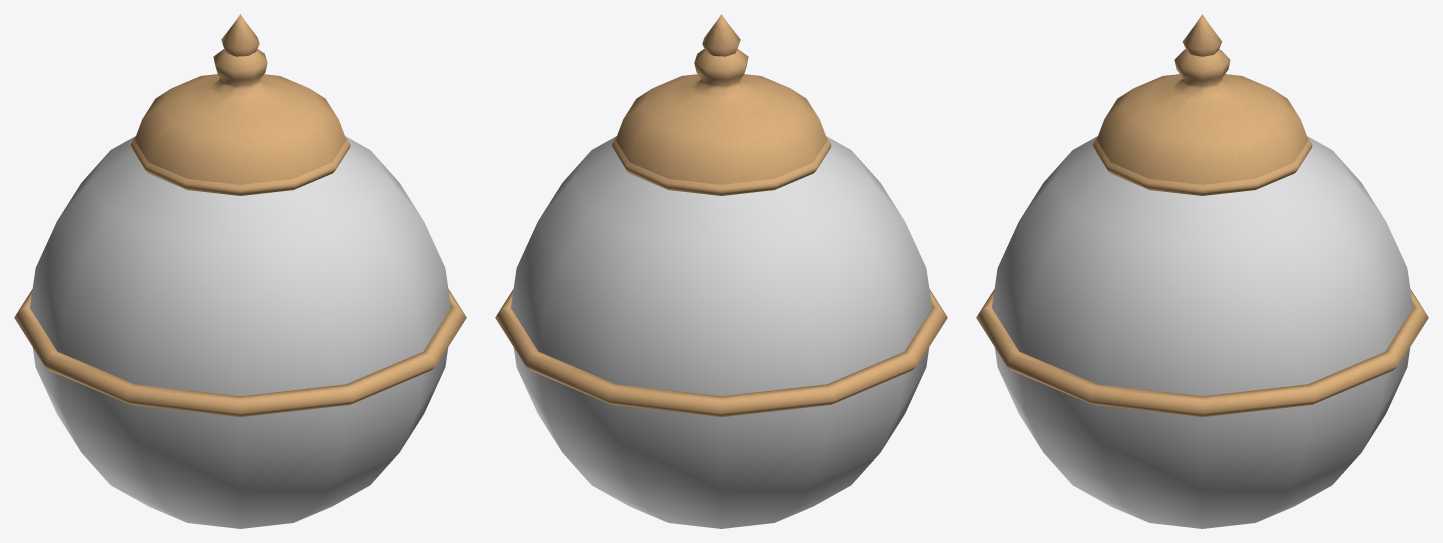
File: ball_machine_sphere.fbx
3 views of the same model, side by side, from view 1: azimuth 30°, elevation 25°; view 2: azimuth 150°, elevation 25°; view 3: azimuth 270°, elevation 25° (orthographic).
Visible parts, largest first — view 1: ball_machine.001; view 2: ball_machine.001; view 3: ball_machine.001.
Boxes of the visible parts, bbox=[...] form: ball_machine.001: bbox=[14, 14, 466, 528]; ball_machine.001: bbox=[495, 14, 947, 528]; ball_machine.001: bbox=[976, 14, 1428, 528].
Size of the model in its own units: 42.46 by 48.66 by 42.46.
